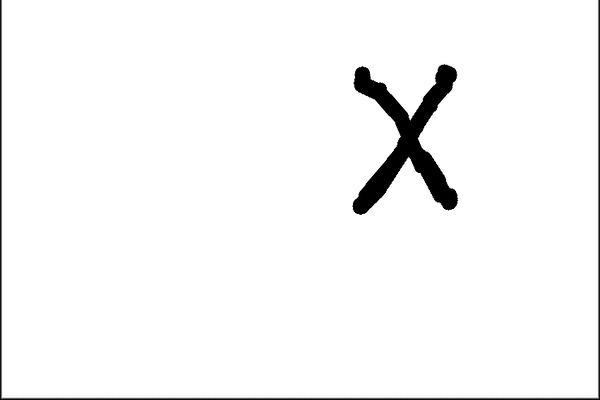X: (326, 46, 478, 226)
